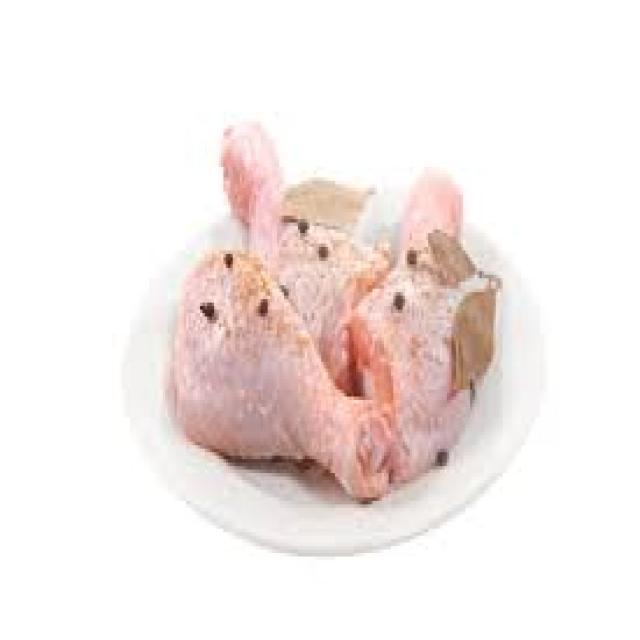leg: (167, 261, 388, 504), (214, 112, 376, 360), (364, 151, 481, 475)
